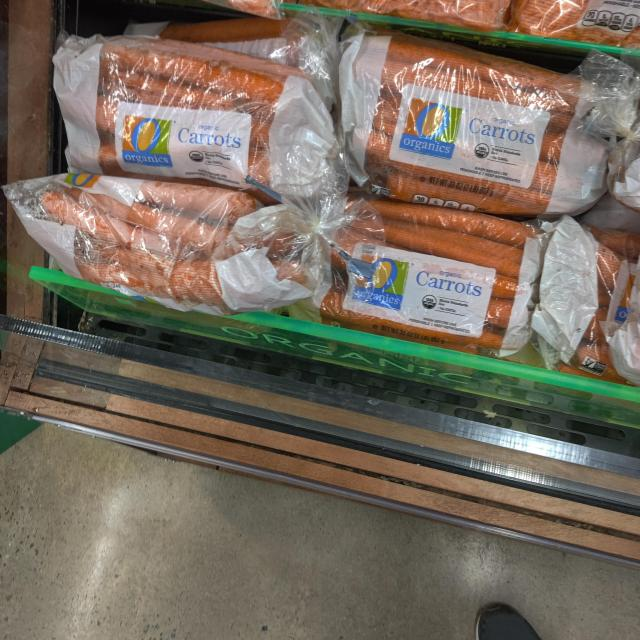Carrots: (289, 175, 601, 373), (39, 21, 354, 207), (321, 28, 608, 219), (14, 177, 329, 330)
